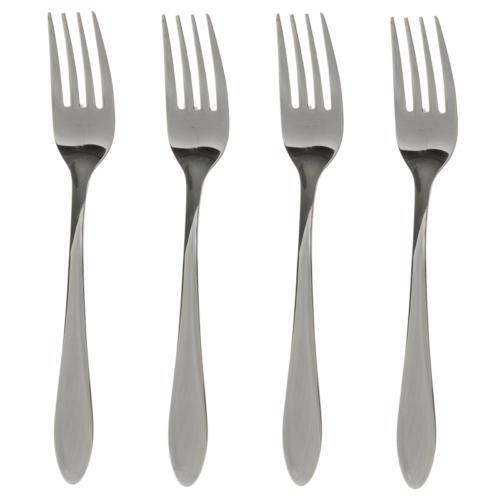Fork: (161, 12, 230, 487), (48, 10, 116, 485), (276, 12, 344, 486), (390, 16, 458, 490)
